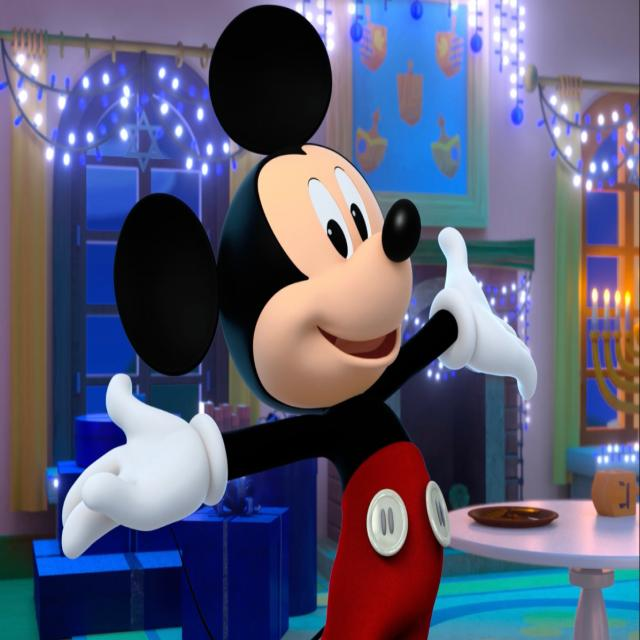mickey: (94, 2, 538, 640)
